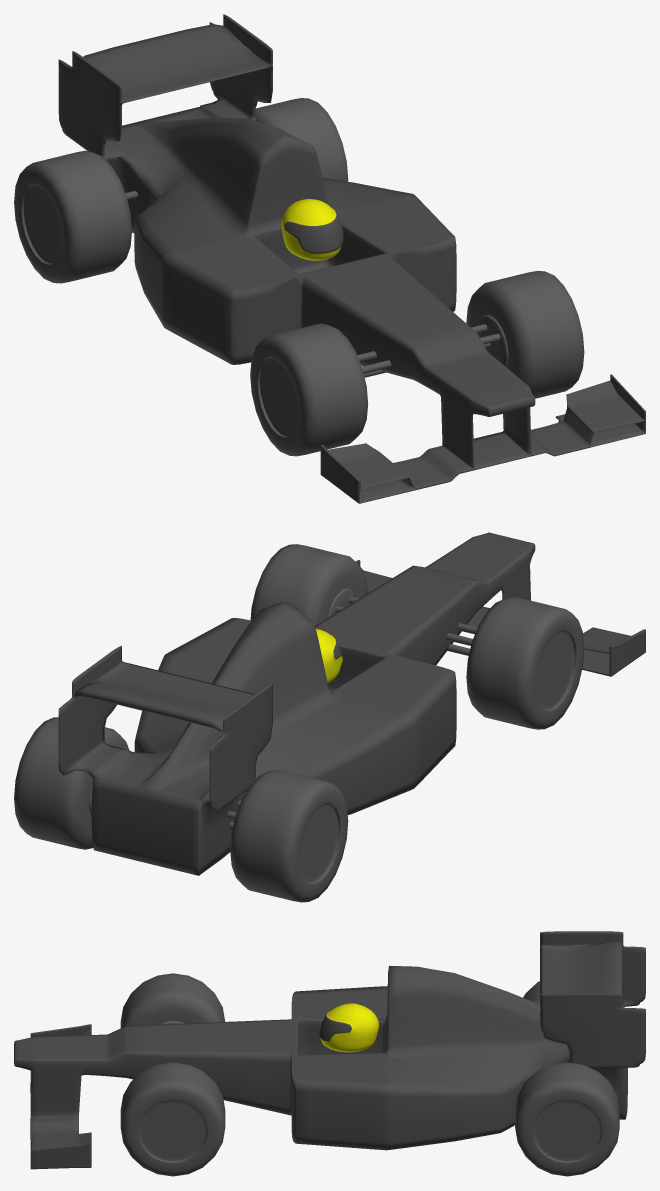
Rendered from lotus.fbx.
3 views of the same model, one above another, from view 1: azimuth 30°, elevation 25°; view 2: azimuth 150°, elevation 25°; view 3: azimuth 270°, elevation 25° (orthographic). The views are drawn at different scales.
Parts seen in each view (by area): view 1: Carro01; view 2: Carro01; view 3: Carro01.
Part boxes in pixels (x1,y1,x2,y2): Carro01: (14, 14, 645, 503); Carro01: (14, 532, 645, 902); Carro01: (14, 931, 645, 1176).
Bounding box in the file's own units: 4.19 × 2.63 × 9.42.
